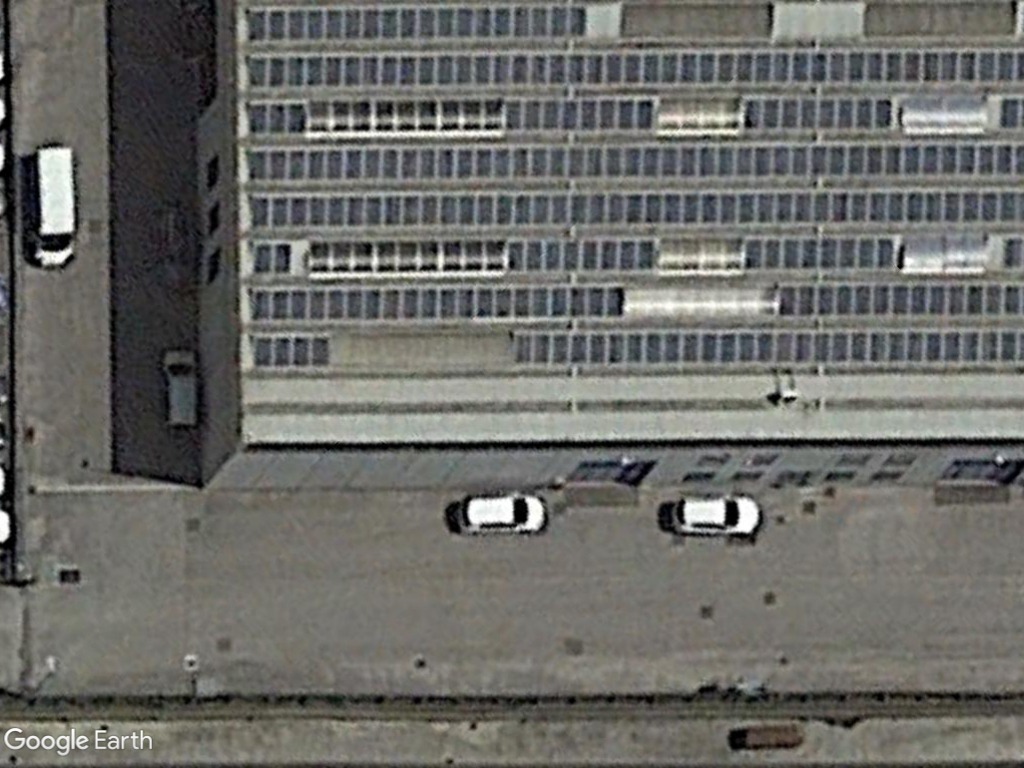car: (447, 491, 553, 544), (665, 493, 767, 543)
van: (24, 140, 82, 273), (156, 344, 202, 431)
